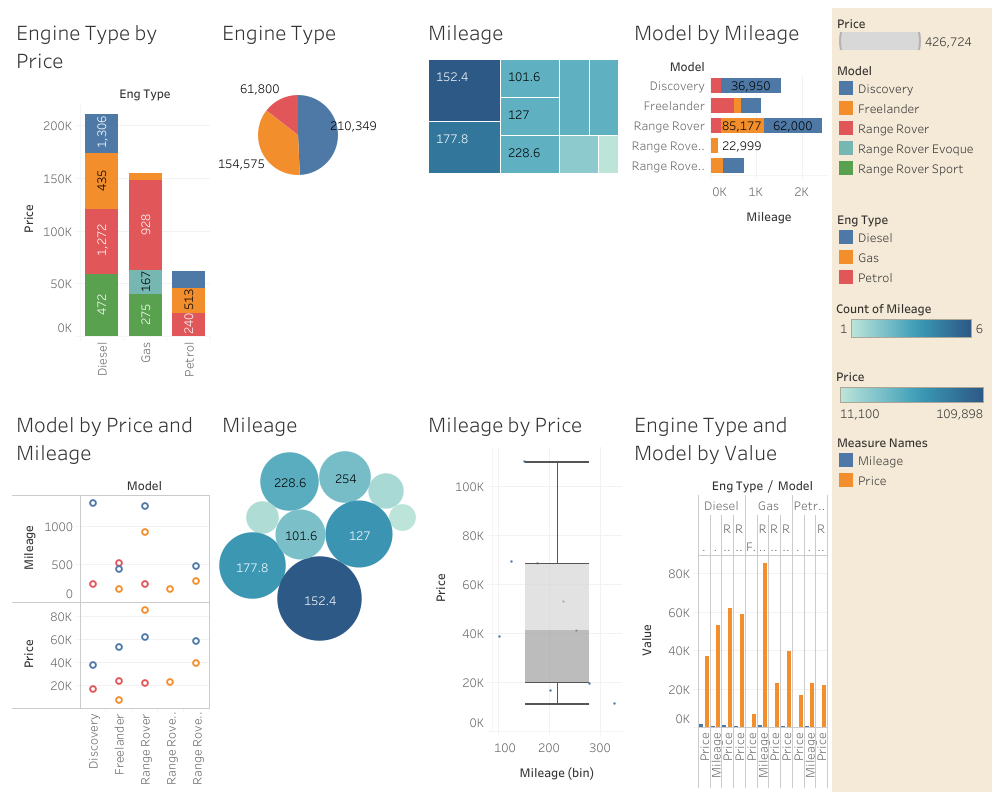

What the dashboard file says about the page in this screenshot:
{"tool":"tableau","page":{"name":"Dashboard 1","canvas":[1000,800],"ordinal":0},"visuals":[{"type":"worksheet","title":"Sheet 3","mark":"Bar","rows":["price"],"cols":["engType"],"box":[8,8,206,392]},{"type":"worksheet","title":"Sheet 2","mark":"Pie","box":[214,8,206,392]},{"type":"worksheet","title":"Sheet 4","mark":"Automatic","box":[420,8,206,392]},{"type":"worksheet","title":"Sheet 1","mark":"Automatic","rows":["model"],"cols":["mileage"],"box":[626,8,206,392]},{"type":"legend","title":"Sheet 2","param":"[federated.1fl1on60n6oz8718d2ti01d4k3g5].[sum:price:qk]","box":[832,8,160,47]},{"type":"legend","title":"Sheet 3","param":"[federated.1fl1on60n6oz8718d2ti01d4k3g5].[none:model:nk]","box":[832,55,160,127]},{"type":"legend","title":"Sheet 4","param":"[federated.1fl1on60n6oz8718d2ti01d4k3g5].[cnt:mileage:qk]","box":[832,182,160,22]},{"type":"legend","title":"Sheet 1","param":"[federated.1fl1on60n6oz8718d2ti01d4k3g5].[none:engType:nk]","box":[832,204,160,87]},{"type":"legend","title":"Sheet 4","param":"[federated.1fl1on60n6oz8718d2ti01d4k3g5].[cnt:mileage:qk]","box":[832,291,160,68]},{"type":"legend","title":"Sheet 5","param":"[federated.1fl1on60n6oz8718d2ti01d4k3g5].[sum:price:qk]","box":[832,359,160,68]},{"type":"worksheet","title":"Sheet 8","mark":"Shape","rows":["mileage","price"],"cols":["model"],"box":[8,400,206,392]},{"type":"worksheet","title":"Sheet 5","mark":"Circle","box":[214,400,206,392]},{"type":"worksheet","title":"Sheet 6","mark":"Circle","rows":["price"],"cols":["Mileage (bin)"],"box":[420,400,206,392]},{"type":"worksheet","title":"Sheet 7","mark":"Automatic","cols":["engType","model"],"box":[626,400,206,392]},{"type":"legend","title":"Sheet 7","param":"[federated.1fl1on60n6oz8718d2ti01d4k3g5].[:Measure Names]","box":[832,427,160,67]}]}

Visuals, with their boxes in screenshot pixels (x1, y1, x2, y2), scaled from the page's 1000x800 canvas onto the 999x799 screenshot:
"Sheet 3" worksheet (Bar marks): 8 8 214 400
"Sheet 2" worksheet (Pie marks): 214 8 420 400
"Sheet 4" worksheet: 420 8 625 400
"Sheet 1" worksheet: 625 8 831 400
"Sheet 2" legend: 831 8 991 55
"Sheet 3" legend: 831 55 991 182
"Sheet 4" legend: 831 182 991 204
"Sheet 1" legend: 831 204 991 291
"Sheet 4" legend: 831 291 991 359
"Sheet 5" legend: 831 359 991 426
"Sheet 8" worksheet (Shape marks): 8 400 214 791
"Sheet 5" worksheet (Circle marks): 214 400 420 791
"Sheet 6" worksheet (Circle marks): 420 400 625 791
"Sheet 7" worksheet: 625 400 831 791
"Sheet 7" legend: 831 426 991 493
